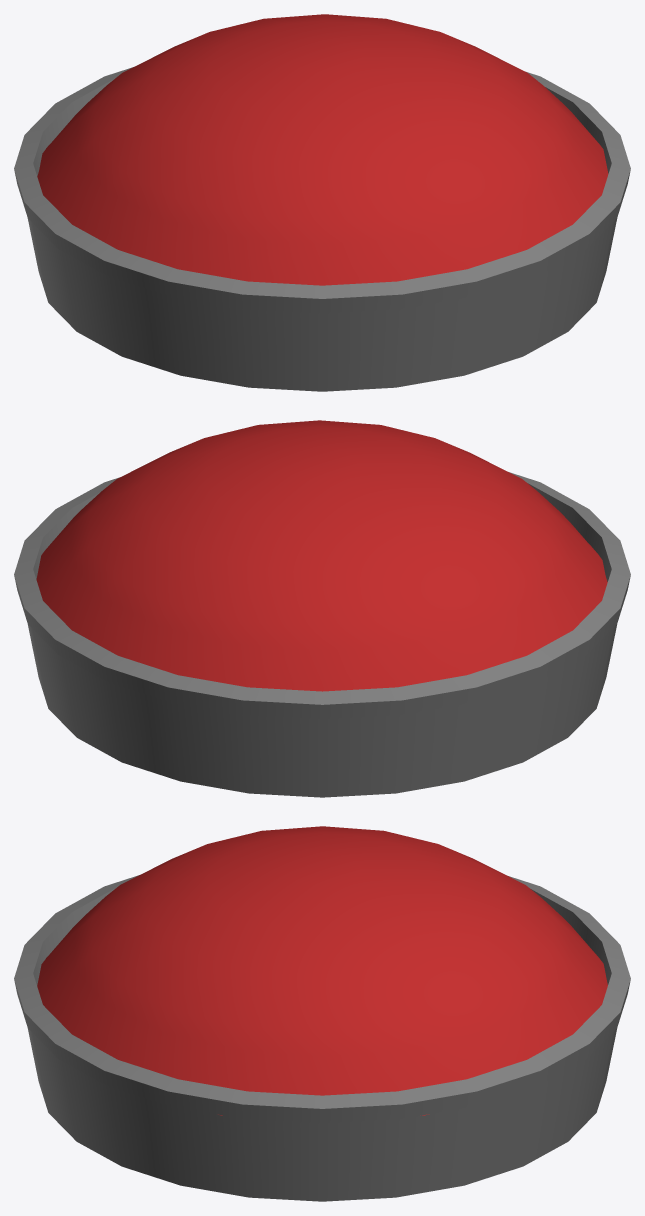
The model's file is SM_spices_market_04.fbx.
3 renders of one model, top to bottom at view 1: azimuth 30°, elevation 25°; view 2: azimuth 150°, elevation 25°; view 3: azimuth 270°, elevation 25°, orthographic.
Visible parts, largest first — view 1: Object32626; view 2: Object32626; view 3: Object32626.
Part boxes in pixels (x1,y1,x2,y2): Object32626: (14, 14, 630, 391); Object32626: (14, 420, 630, 797); Object32626: (14, 826, 630, 1201).
Bounding box in the file's own units: 36.24 × 13.87 × 36.24.
